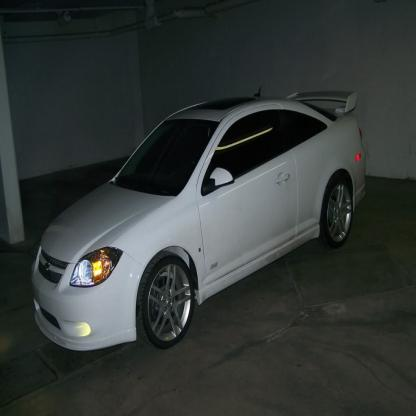Vehicle: (29, 83, 370, 366)
